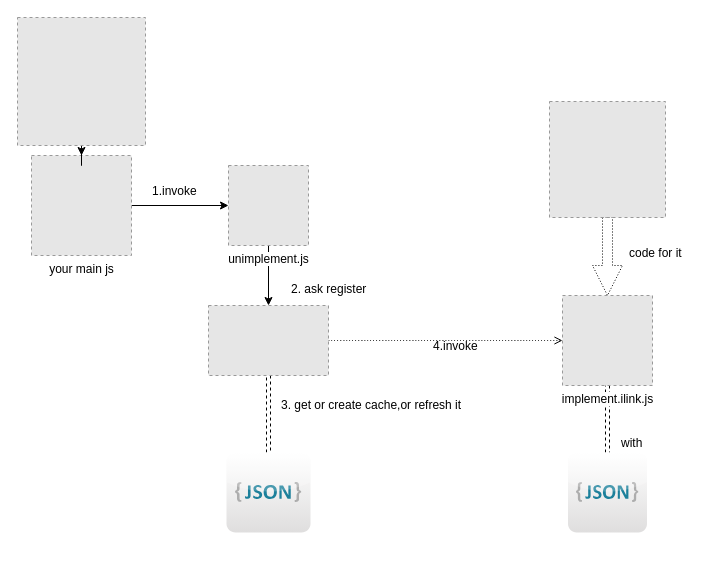
This 715x571 diagram has some shape labels left out. Grey dashed boxes stand in for pictures. Here are the shapes that lost their labels. From the top down, the centre of each, then its label:
At (268,492): "ilink.cache.json".
At (607,492): "ilink.json".
